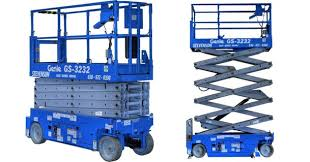Scissor Lift: (25, 1, 156, 162), (185, 2, 276, 159)
